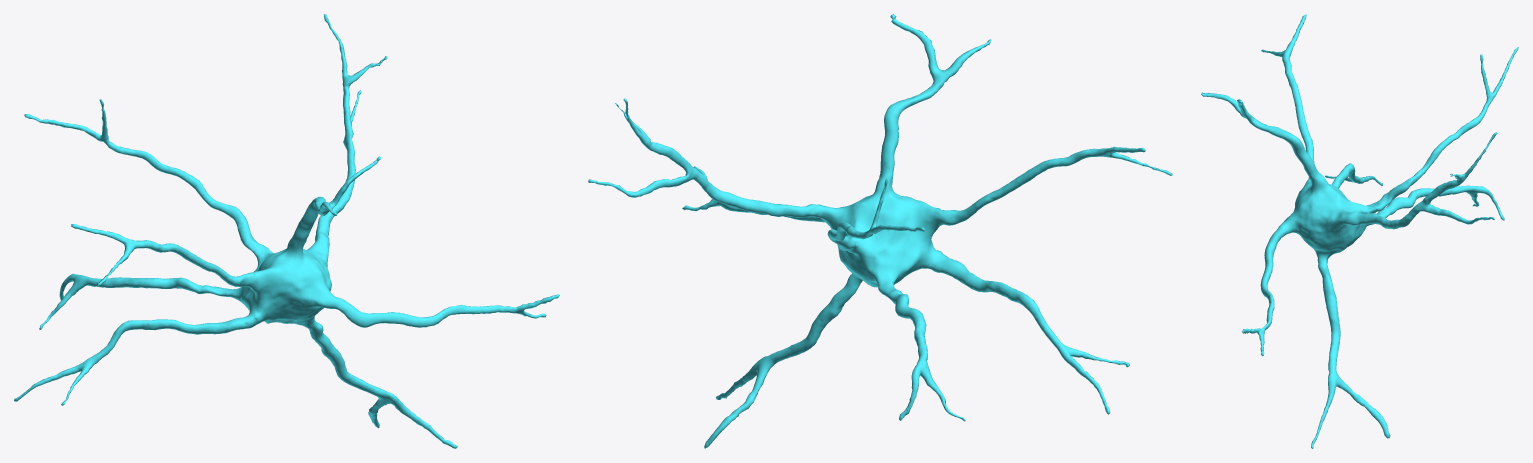
The model's file is high_poly_unrealistic_neuron_-_free_download.glb.
3 renders of one model, left to right at view 1: azimuth 30°, elevation 25°; view 2: azimuth 150°, elevation 25°; view 3: azimuth 270°, elevation 25°, orthographic. The views are drawn at different scales.
Parts seen in each view (by area): view 1: Object_2; view 2: Object_2; view 3: Object_2.
Boxes of the visible parts, x1=… form: Object_2: x1=14, y1=14, x2=559, y2=448; Object_2: x1=588, y1=14, x2=1172, y2=448; Object_2: x1=1201, y1=14, x2=1518, y2=448.
Size of the model in its own units: 12.19 by 9.16 by 8.49.
